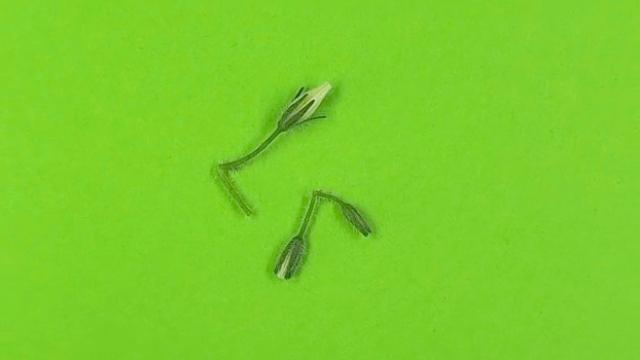Flower Bud: (277, 80, 332, 131), (336, 199, 373, 238), (273, 238, 305, 281)
